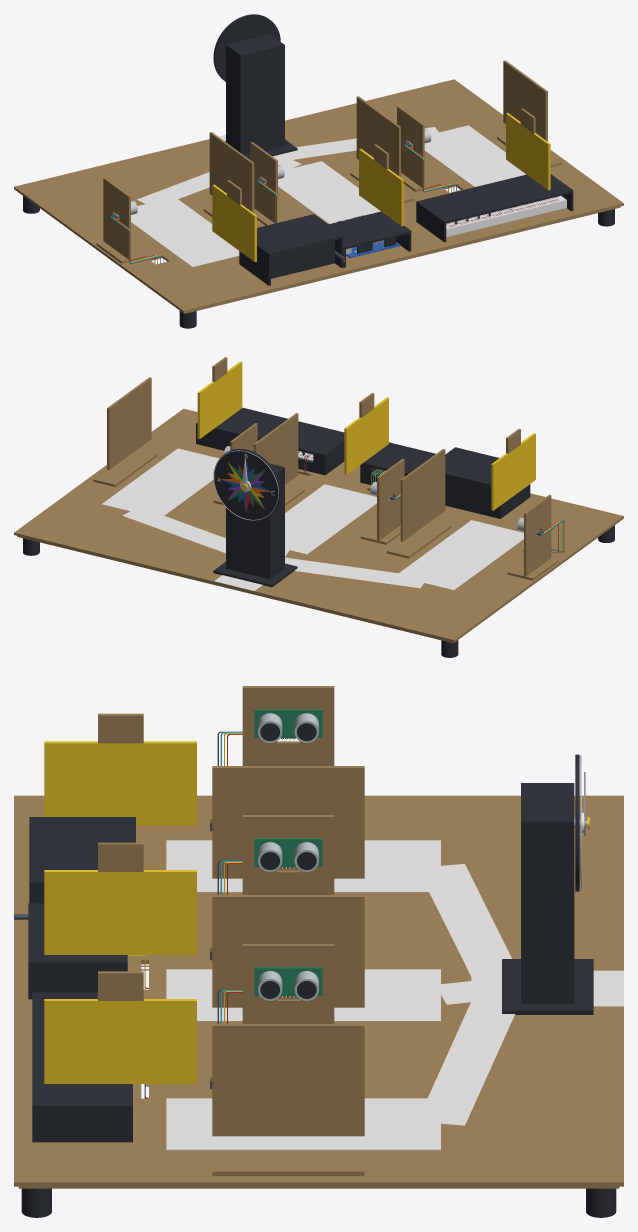
Rendered from bancada-completa.glb.
3 views of the same model, one above another, from view 1: azimuth 30°, elevation 25°; view 2: azimuth 150°, elevation 25°; view 3: azimuth 270°, elevation 25° (orthographic). The views are drawn at different scales.
Parts seen in each view (by area): view 1: base_MDF_600x400x3, totem_painel_traseiro, via_110, cobertura_tecnica_protoboard_tampa, via_310, via_510, cobertura_tecnica_fonte_tampa, painel_fundo_A, painel_alvo_B, painel_alvo_C, painel_alvo_A, painel_fundo_C (+16 smaller); view 2: base_MDF_600x400x3, via_110, via_510, via_310, painel_fundo_A, painel_fundo_C, totem_frente_inferior, cobertura_tecnica_protoboard_tampa, mostrador_impresso_preto, painel_alvo_C, painel_alvo_B, painel_alvo_A (+18 smaller); view 3: base_MDF_600x400x3, painel_fundo_C, painel_alvo_B, painel_alvo_C, painel_alvo_A, painel_fundo_B, painel_fundo_A, via_510, totem_lateral_328.5, via_310, ramal_510, via_110 (+24 smaller).
Boxes of the visible parts, x1,y1,x2,y2 form: base_MDF_600x400x3: [14, 79, 623, 312]; totem_painel_traseiro: [239, 44, 284, 155]; via_110: [131, 199, 239, 267]; cobertura_tecnica_protoboard_tampa: [416, 174, 573, 223]; via_310: [278, 161, 380, 223]; via_510: [424, 125, 525, 186]; cobertura_tecnica_fonte_tampa: [257, 214, 343, 256]; painel_fundo_A: [209, 132, 254, 213]; painel_alvo_B: [359, 148, 403, 226]; painel_alvo_C: [506, 113, 550, 190]; painel_alvo_A: [212, 184, 256, 261]; painel_fundo_C: [503, 60, 547, 141]; base_MDF_600x400x3: [14, 408, 623, 642]; via_110: [399, 520, 523, 590]; via_510: [101, 448, 219, 515]; via_310: [285, 484, 376, 554]; painel_fundo_A: [400, 449, 445, 541]; painel_fundo_C: [107, 377, 151, 469]; totem_frente_inferior: [226, 508, 271, 579]; cobertura_tecnica_protoboard_tampa: [196, 407, 344, 456]; mostrador_impresso_preto: [214, 451, 277, 519]; painel_alvo_C: [197, 361, 242, 438]; painel_alvo_B: [344, 397, 388, 474]; painel_alvo_A: [491, 433, 535, 510]; base_MDF_600x400x3: [14, 795, 623, 1186]; painel_fundo_C: [212, 1024, 364, 1136]; painel_alvo_B: [44, 870, 196, 954]; painel_alvo_C: [44, 999, 196, 1083]; painel_alvo_A: [44, 741, 196, 825]; painel_fundo_B: [212, 895, 364, 1007]; painel_fundo_A: [212, 766, 364, 878]; via_510: [166, 1098, 440, 1150]; totem_lateral_328.5: [525, 820, 569, 1004]; via_310: [166, 969, 440, 1021]; ramal_510: [417, 987, 514, 1125]; via_110: [166, 840, 440, 892].
Size of the model in its own units: 0.6 by 0.193 by 0.4.
